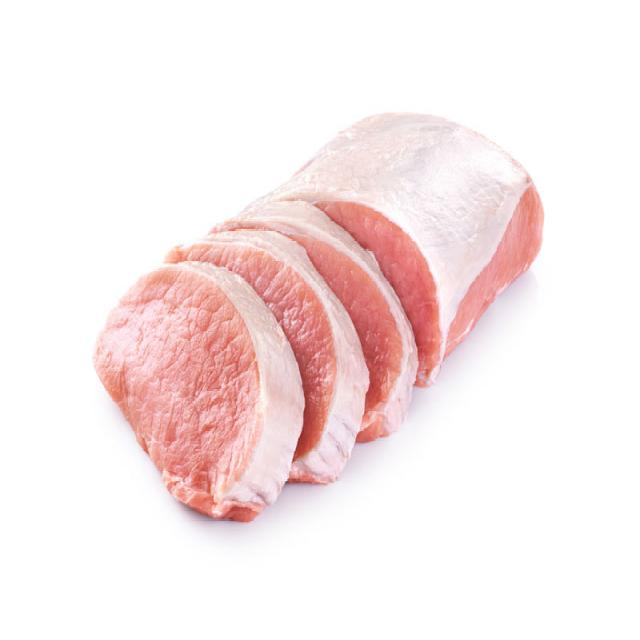pork belly: (221, 102, 549, 381), (89, 256, 305, 524), (166, 226, 366, 489), (216, 203, 414, 440)
